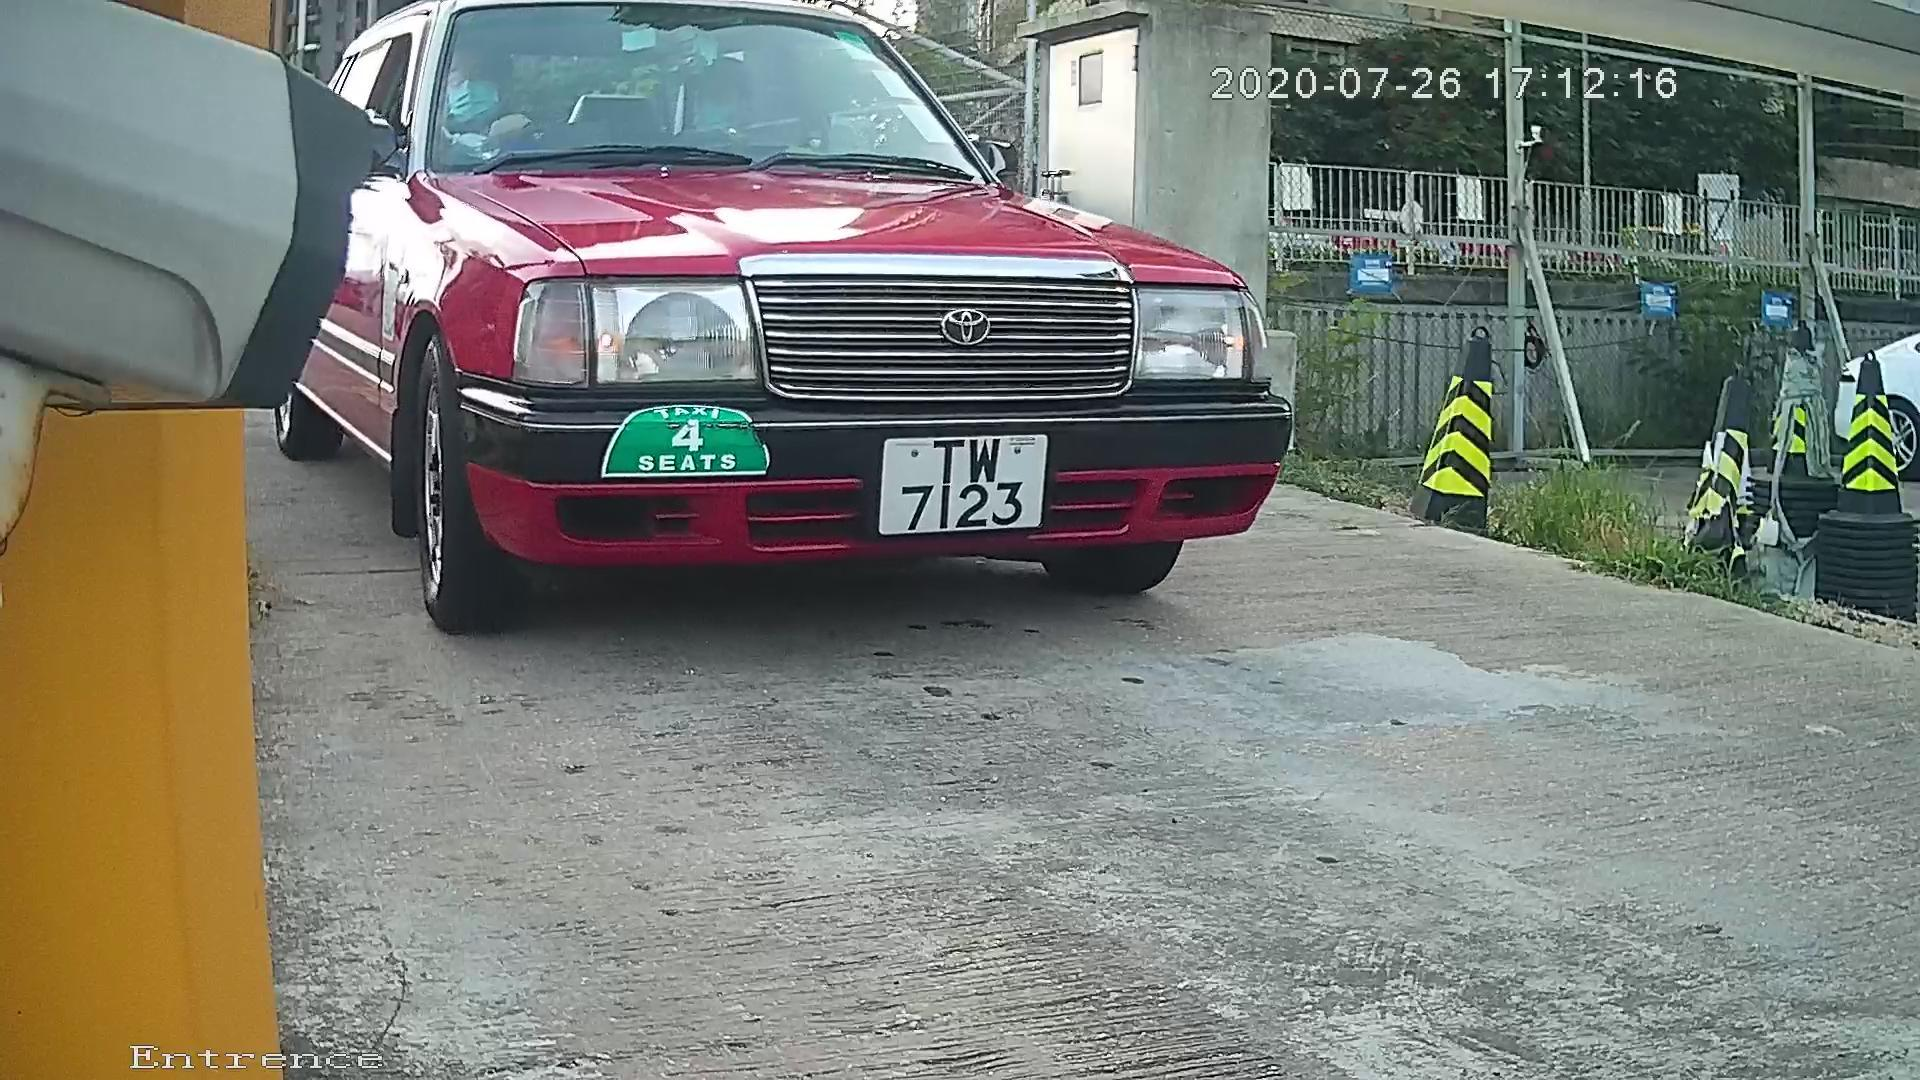taxi: (189, 5, 1509, 661)
taxi_mark: (566, 386, 815, 502)
